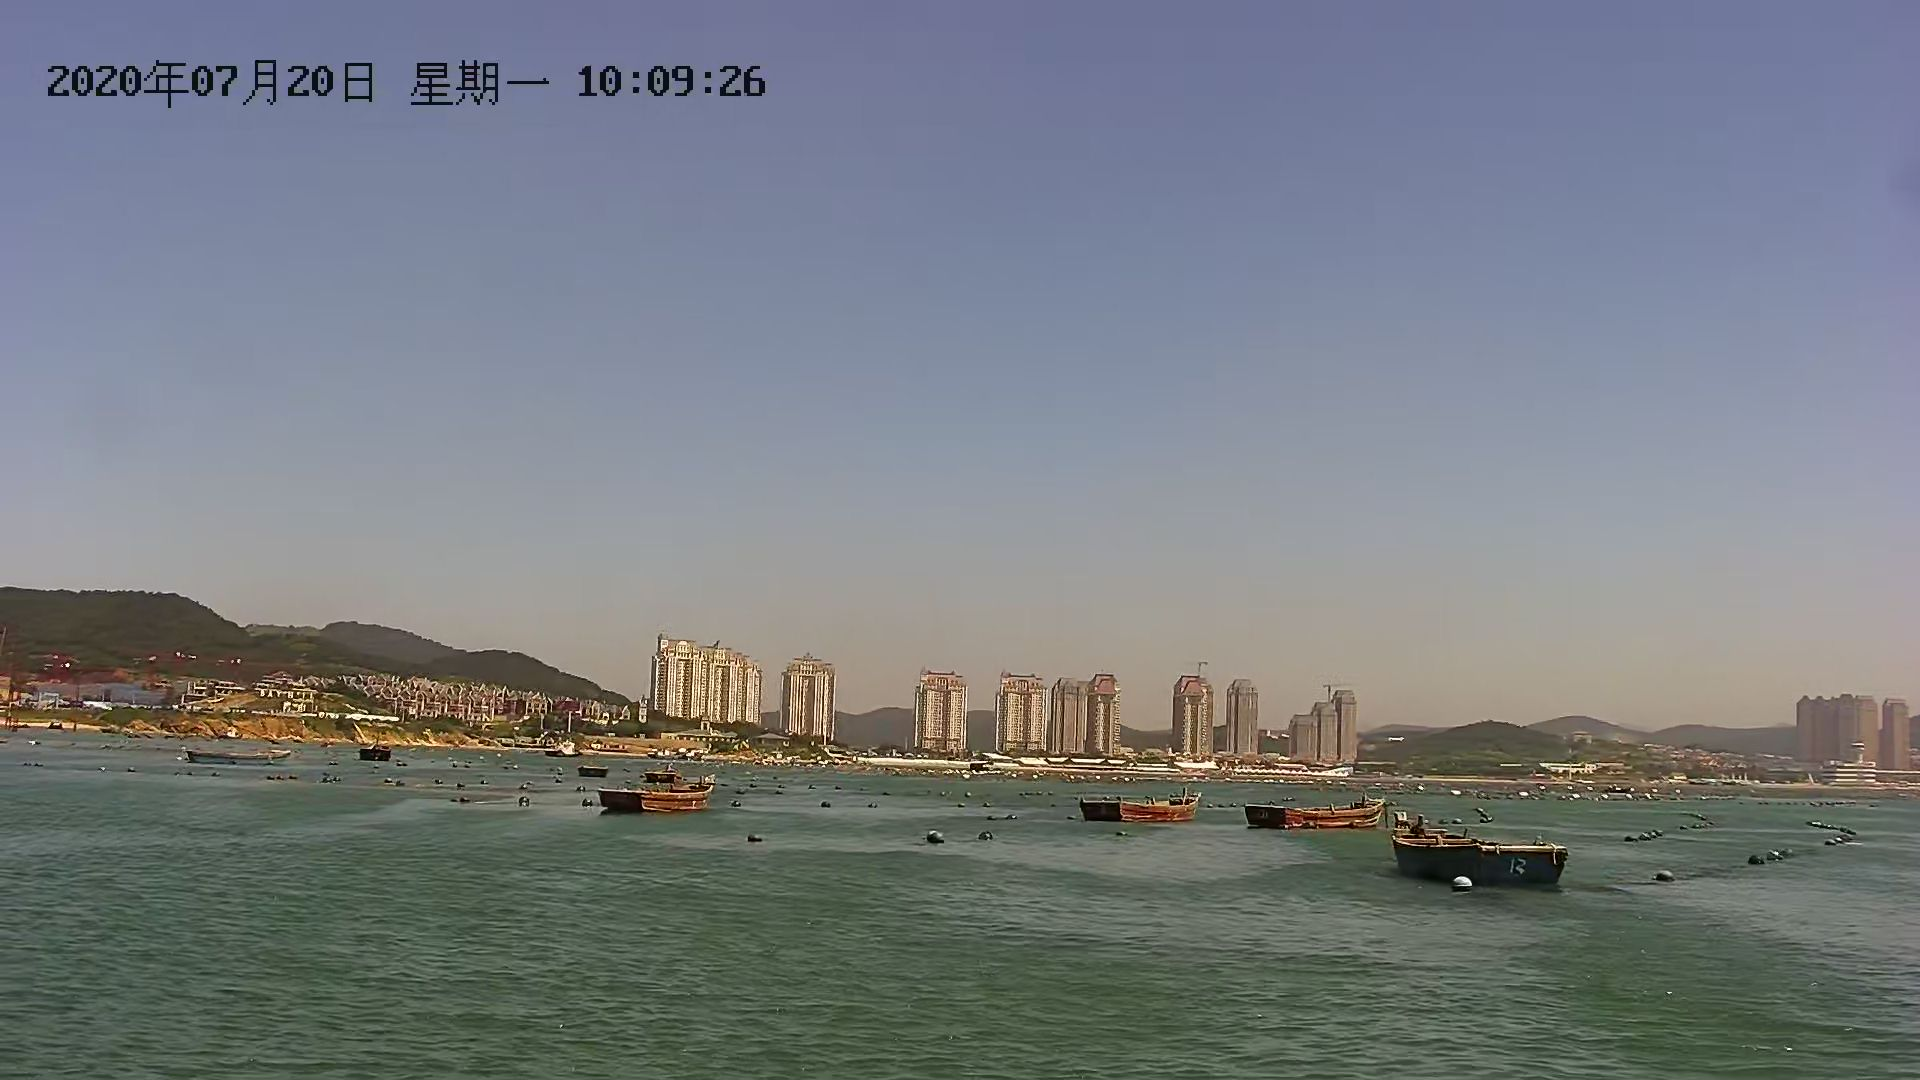ball: (1654, 864, 1681, 887), (924, 829, 948, 848)
boat: (1385, 829, 1573, 893), (1244, 789, 1382, 836), (1076, 785, 1207, 829), (601, 777, 719, 818), (183, 744, 291, 773)
